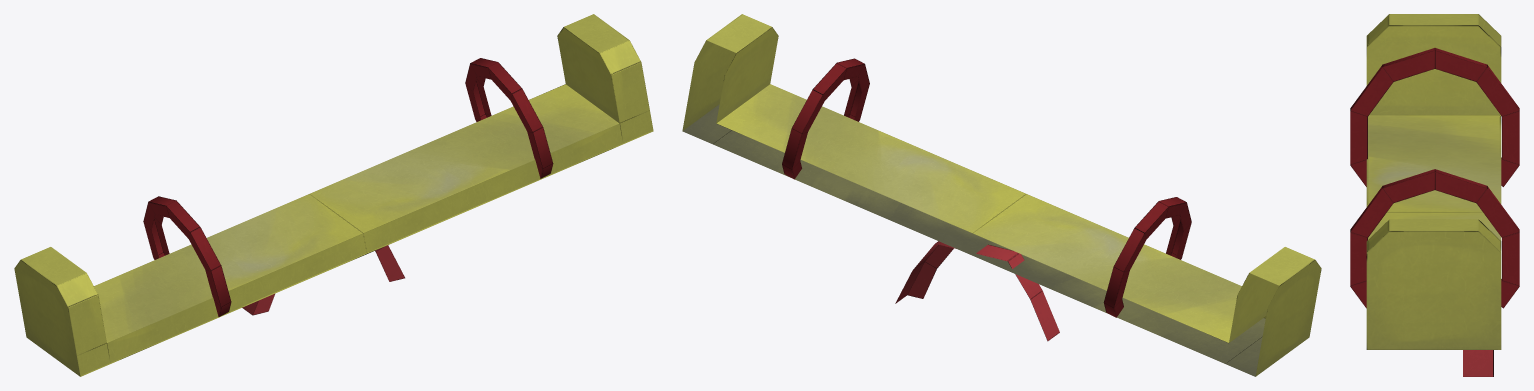
3 renders of one model, left to right at view 1: azimuth 30°, elevation 25°; view 2: azimuth 150°, elevation 25°; view 3: azimuth 270°, elevation 25°, orthographic. The views are drawn at different scales.
Parts seen in each view (by area): view 1: Box001, Cylinder002, Cylinder001, Object001; view 2: Box001, Cylinder002, Cylinder001, Object001; view 3: Box001, Cylinder001, Cylinder002, Object001.
Boxes of the visible parts, box(x1,y1,x2,y2) form: Box001: box(14, 14, 653, 376); Cylinder002: box(465, 58, 553, 178); Cylinder001: box(143, 196, 231, 316); Object001: box(242, 245, 404, 315); Box001: box(682, 14, 1321, 376); Cylinder002: box(782, 58, 869, 179); Cylinder001: box(1103, 197, 1191, 317); Object001: box(895, 241, 1059, 341); Box001: box(1366, 14, 1501, 349); Cylinder001: box(1350, 48, 1519, 186); Cylinder002: box(1350, 169, 1519, 308); Object001: box(1463, 350, 1493, 376).
Size of the model in its own units: 81.41 by 28.06 by 16.3.
1 material, 1 textured.
